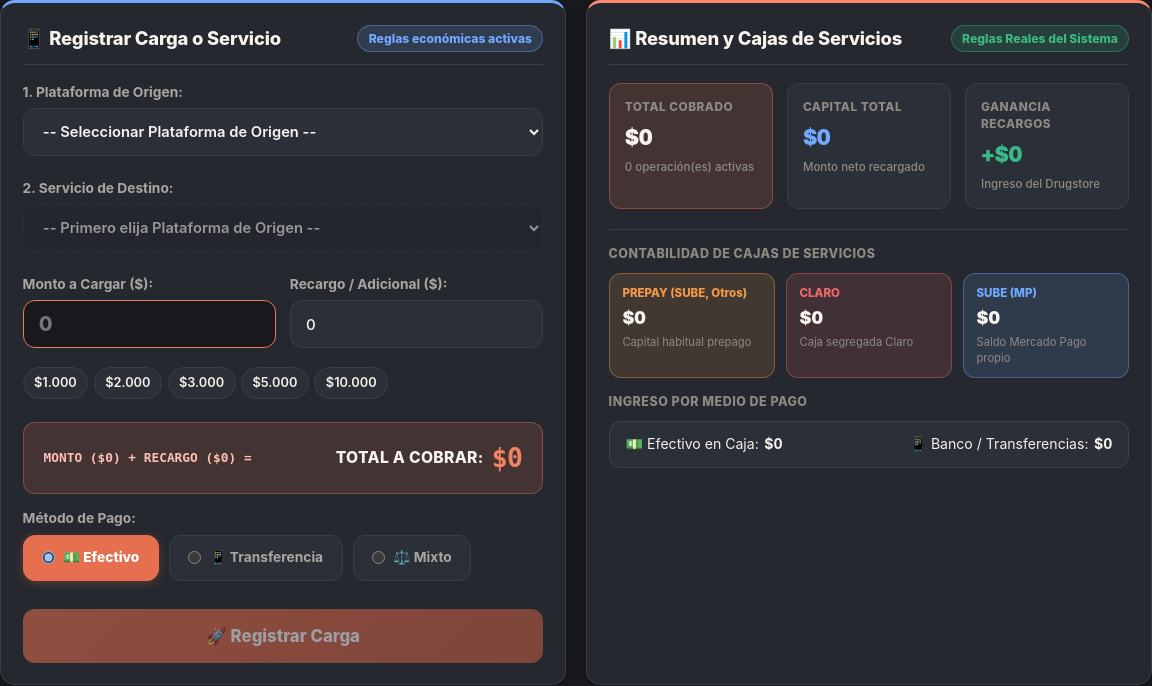
Test: GenaroPOS — Prioridad 2: Validación de Concurrencia y Envíos en Servicios › 5b. Muestra error del formulario si el backend rechaza el registro
The width and height of the screenshot is (1152, 686).
Expected: the number field with test id "input-service-amount" is shown, [23,300,276,348]
Select "PREPAY" in the dropdown with test id "select-plataforma-origen" at (283, 132), box [23,108,543,156]
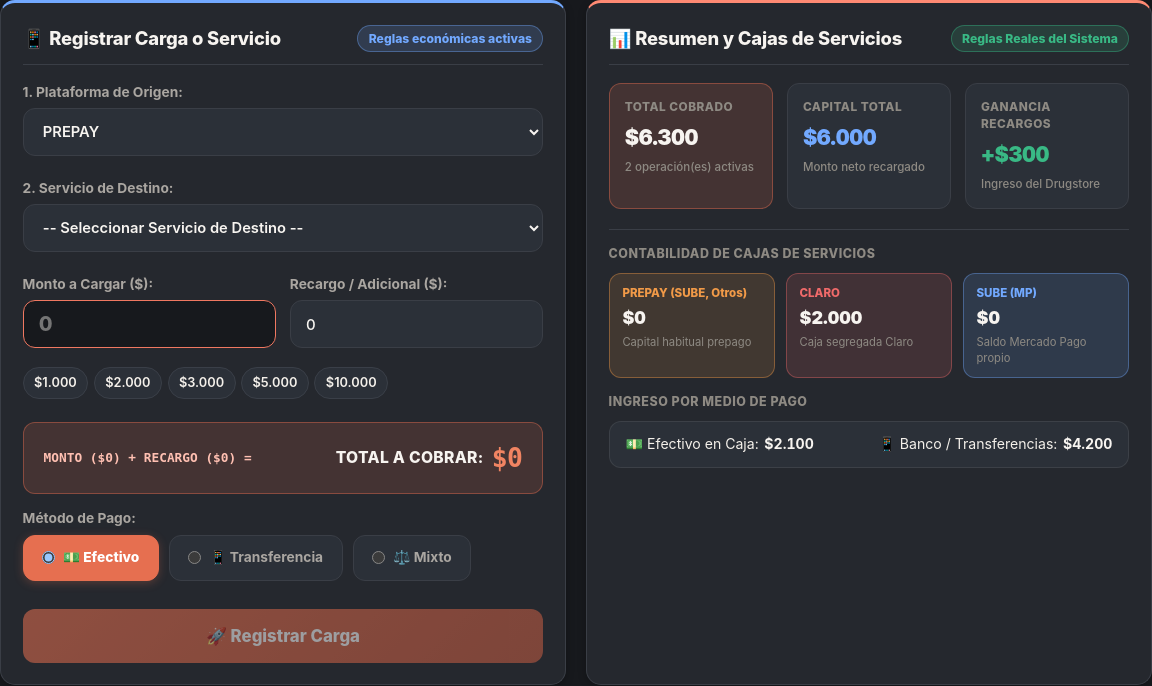
Select "SUBE" in the dropdown with test id "select-servicio-destino" at (283, 228), box [23,204,543,252]
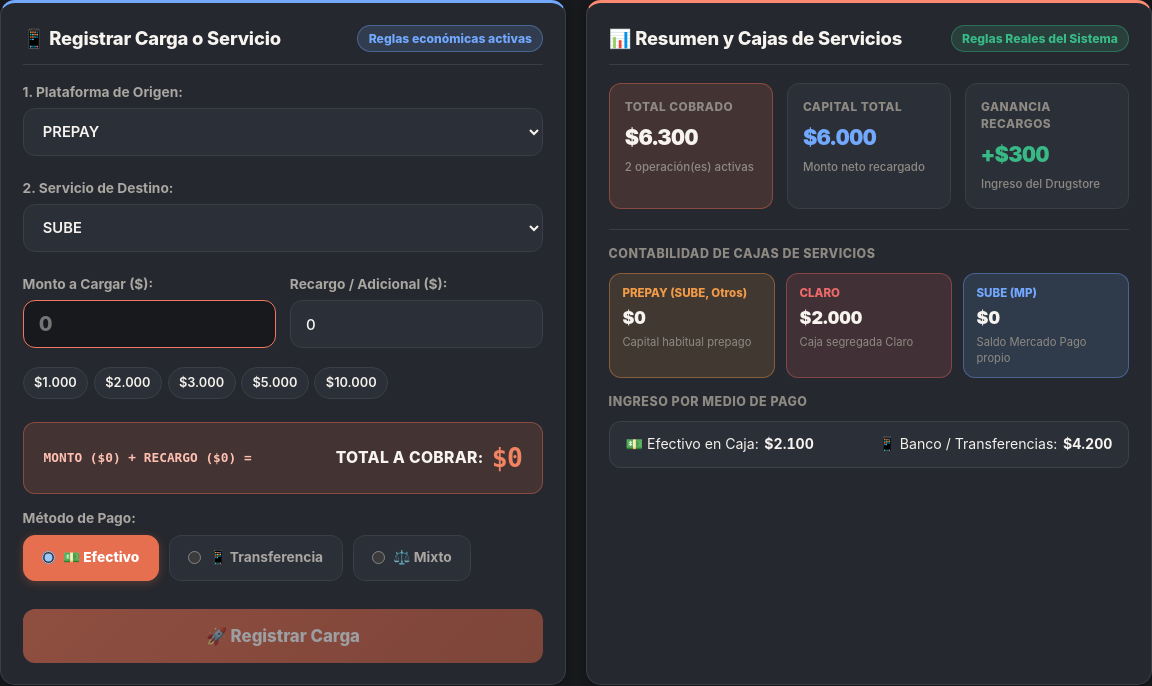
Type "1500" into the number field with test id "input-service-amount".
click(149, 324); type("1500")  # box [23,300,276,348]
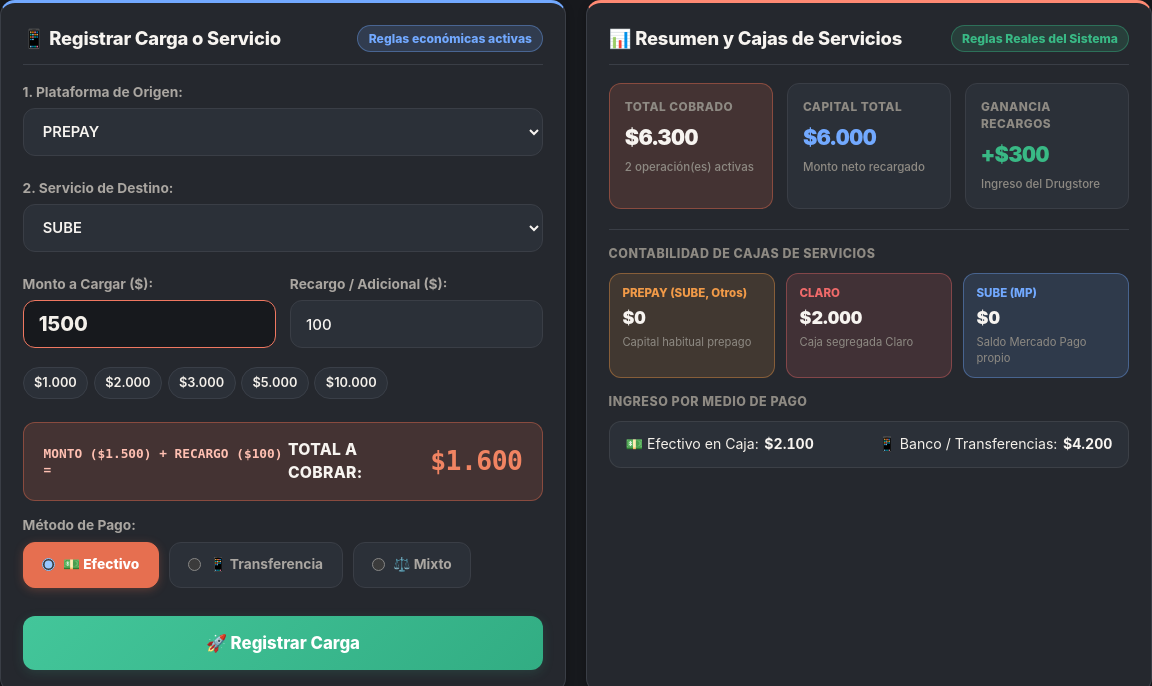
Submit the form with test id "services-form", box [23,83,543,670]
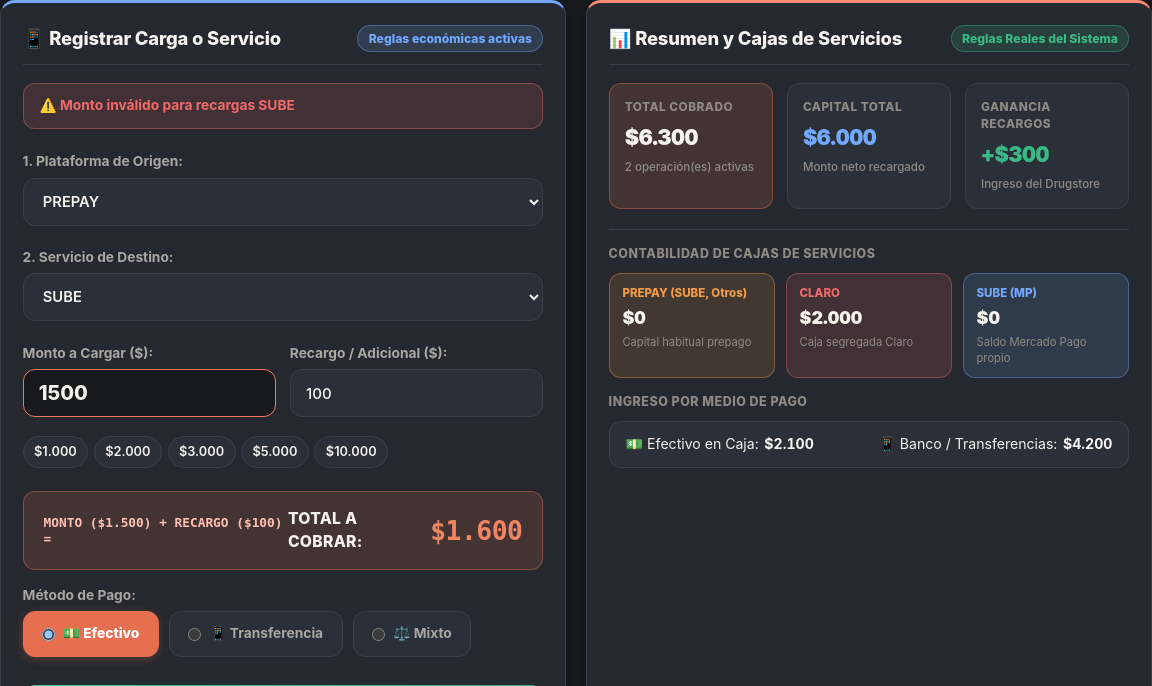
Result: the text with test id "services-form-error" shows "Monto inválido para recargas SUBE" at [60,97,295,113]
